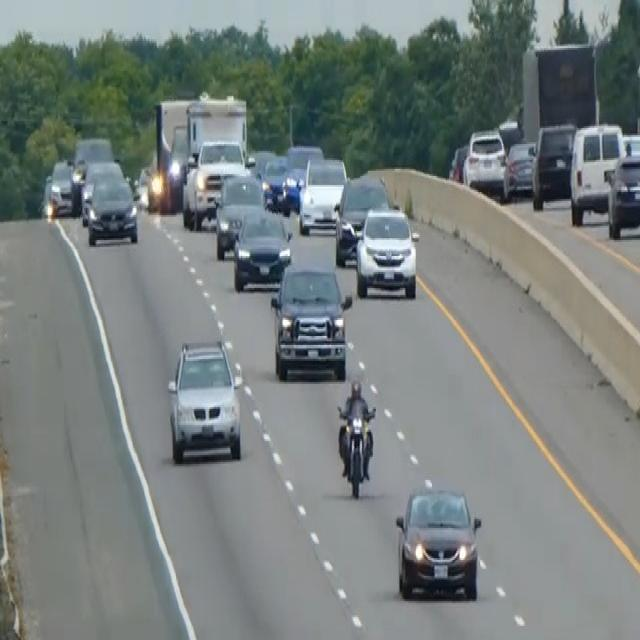car: (392, 480, 484, 603), (181, 137, 249, 229), (354, 204, 419, 298), (568, 119, 626, 224), (333, 170, 389, 266), (232, 205, 292, 292), (213, 169, 265, 259), (530, 119, 576, 210), (297, 154, 348, 234), (86, 172, 138, 245), (70, 134, 114, 212), (462, 126, 507, 196), (604, 148, 639, 238), (280, 142, 323, 214), (80, 156, 121, 224), (502, 137, 537, 199), (47, 157, 75, 215), (261, 153, 288, 210), (448, 142, 468, 183)
jeep: (269, 260, 352, 382), (166, 336, 243, 464)
motorcycle: (335, 400, 376, 498)
truck: (518, 39, 600, 144)
